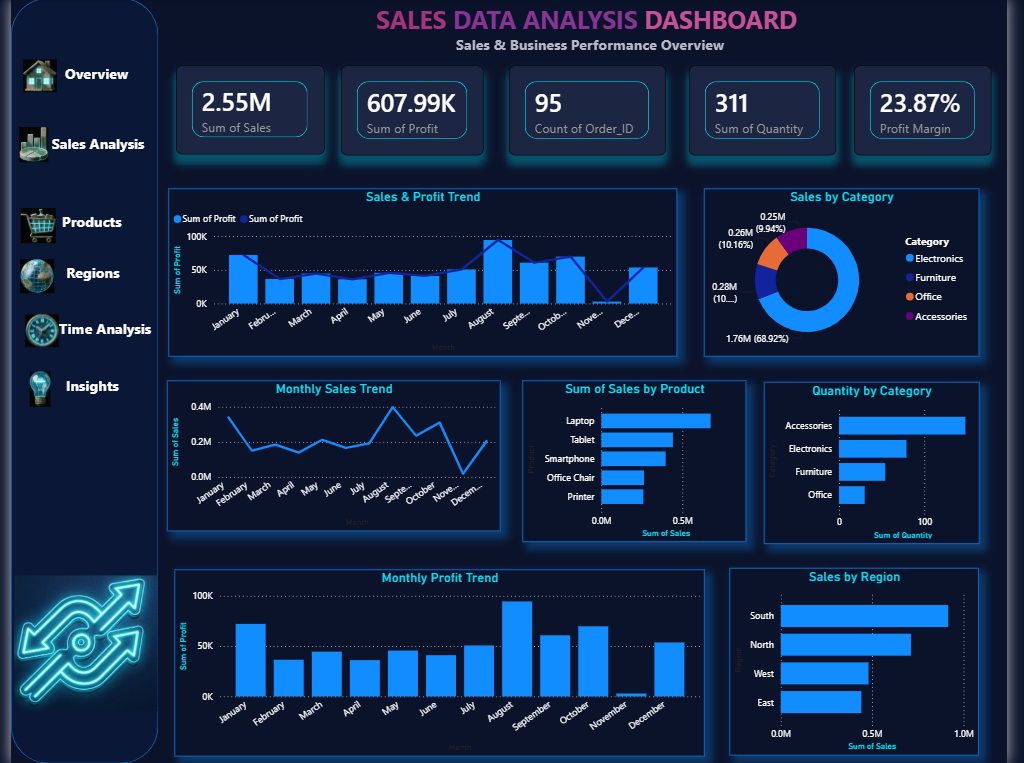

Layout of this report page (visuals, bound fields, positions):
{"tool":"powerbi","page":{"name":"Page 1","canvas":[1300,1000],"ordinal":0},"visuals":[{"type":"textbox","box":[215.6,0,993.8,81.2],"z":0},{"type":"shape","box":[0,0,192.2,999.2],"z":1000},{"type":"textbox","box":[12.7,81,174.7,60.4],"z":2000},{"type":"textbox","box":[1.6,173.2,185.9,57.2],"z":3000},{"type":"textbox","box":[12.7,274.8,187.5,65.1],"z":4000},{"type":"textbox","box":[57.2,340,114.4,52.4],"z":5000},{"type":"textbox","box":[38.1,413,154.1,42.9],"z":6000},{"type":"textbox","box":[25.4,487.7,162,46.1],"z":7000},{"type":"cardVisual","fields":{"Data":["Sum(Sheet1.Sales)"]},"box":[216,87.4,193.8,116],"z":8000},{"type":"cardVisual","fields":{"Data":["Sum(Sheet1.Profit)"]},"box":[431.4,87.6,186,117.3],"z":9000},{"type":"cardVisual","fields":{"Data":["Count(Sheet1.Order_ID)"]},"box":[649.8,87.6,204.9,117.3],"z":10000},{"type":"cardVisual","fields":{"Data":["Sum(Sheet1.Quantity)"]},"box":[885.9,87.5,192.2,117.2],"z":11000},{"type":"cardVisual","fields":{"Data":["Sheet1.Profit Margin"]},"box":[1101.4,87.6,179.3,117.3],"z":12000},{"type":"lineChart","title":"Monthly Sales Trend","fields":{"Category":["Sheet1.Month"],"Y":["Sum(Sheet1.Sales)"]},"box":[204.6,500,435.4,196.9],"z":13000},{"type":"donutChart","title":"Sales by Category","fields":{"Category":["Sheet1.Category"],"Y":["Sum(Sheet1.Sales)"]},"box":[905.5,249.4,359,219.2],"z":14000},{"type":"clusteredBarChart","fields":{"Category":["Sheet1.Product"],"Y":["Sum(Sheet1.Sales)"]},"box":[667.7,500,292.3,210.8],"z":15000},{"type":"lineClusteredColumnComboChart","title":"Sales & Profit Trend","fields":{"Category":["Sheet1.Month"],"Y":["Sum(Sheet1.Profit)"],"Y2":["Sum(Sheet1.Profit)"]},"box":[204.9,249.4,664,219.2],"z":16000},{"type":"clusteredBarChart","title":"Sales by Region","fields":{"Category":["Sheet1.Region"],"Y":["Sum(Sheet1.Sales)"]},"box":[938.9,745.1,325.7,244.6],"z":17000},{"type":"clusteredColumnChart","title":"Monthly Profit Trend","fields":{"Category":["Sheet1.Month"],"Y":["Sum(Sheet1.Profit)"]},"box":[212.5,745.3,692.2,243.8],"z":18000},{"type":"clusteredBarChart","title":"Quantity by Category","fields":{"Category":["Sheet1.Category"],"Y":["Sum(Sheet1.Quantity)"]},"box":[983.3,500.4,281.2,211.3],"z":19000},{"type":"image","box":[1.6,81,71.5,42.9],"z":20000},{"type":"image","box":[1.6,168.4,55.6,46.1],"z":21000},{"type":"image","box":[0,274.8,71.5,46.1],"z":22000},{"type":"image","box":[12.7,340,44.5,44.5],"z":23000},{"type":"image","box":[12.7,413,57.2,42.9],"z":24000},{"type":"image","box":[15.9,487.7,44.5,46.1],"z":25000},{"type":"image","box":[3.2,697.4,187.5,290.7],"z":25001}]}

Visuals, with their boxes on the page's 1300x1000 design canvas (x1, y1, x2, y2). These are canvas units, not pixel positions in the 1024x763 screenshot, which may show the page scaled, cropped or inside an application window:
textbox: (x1=216, y1=0, x2=1209, y2=81)
shape: (x1=0, y1=0, x2=192, y2=999)
textbox: (x1=13, y1=81, x2=187, y2=141)
textbox: (x1=2, y1=173, x2=188, y2=230)
textbox: (x1=13, y1=275, x2=200, y2=340)
textbox: (x1=57, y1=340, x2=172, y2=392)
textbox: (x1=38, y1=413, x2=192, y2=456)
textbox: (x1=25, y1=488, x2=187, y2=534)
cardVisual - Sum(Sheet1.Sales): (x1=216, y1=87, x2=410, y2=203)
cardVisual - Sum(Sheet1.Profit): (x1=431, y1=88, x2=617, y2=205)
cardVisual - Count(Sheet1.Order_ID): (x1=650, y1=88, x2=855, y2=205)
cardVisual - Sum(Sheet1.Quantity): (x1=886, y1=88, x2=1078, y2=205)
cardVisual - Sheet1.Profit Margin: (x1=1101, y1=88, x2=1281, y2=205)
"Monthly Sales Trend" lineChart: (x1=205, y1=500, x2=640, y2=697)
"Sales by Category" donutChart: (x1=906, y1=249, x2=1264, y2=469)
clusteredBarChart - Sheet1.Product x Sum(Sheet1.Sales): (x1=668, y1=500, x2=960, y2=711)
"Sales & Profit Trend" lineClusteredColumnComboChart: (x1=205, y1=249, x2=869, y2=469)
"Sales by Region" clusteredBarChart: (x1=939, y1=745, x2=1265, y2=990)
"Monthly Profit Trend" clusteredColumnChart: (x1=212, y1=745, x2=905, y2=989)
"Quantity by Category" clusteredBarChart: (x1=983, y1=500, x2=1264, y2=712)
image: (x1=2, y1=81, x2=73, y2=124)
image: (x1=2, y1=168, x2=57, y2=214)
image: (x1=0, y1=275, x2=72, y2=321)
image: (x1=13, y1=340, x2=57, y2=384)
image: (x1=13, y1=413, x2=70, y2=456)
image: (x1=16, y1=488, x2=60, y2=534)
image: (x1=3, y1=697, x2=191, y2=988)
